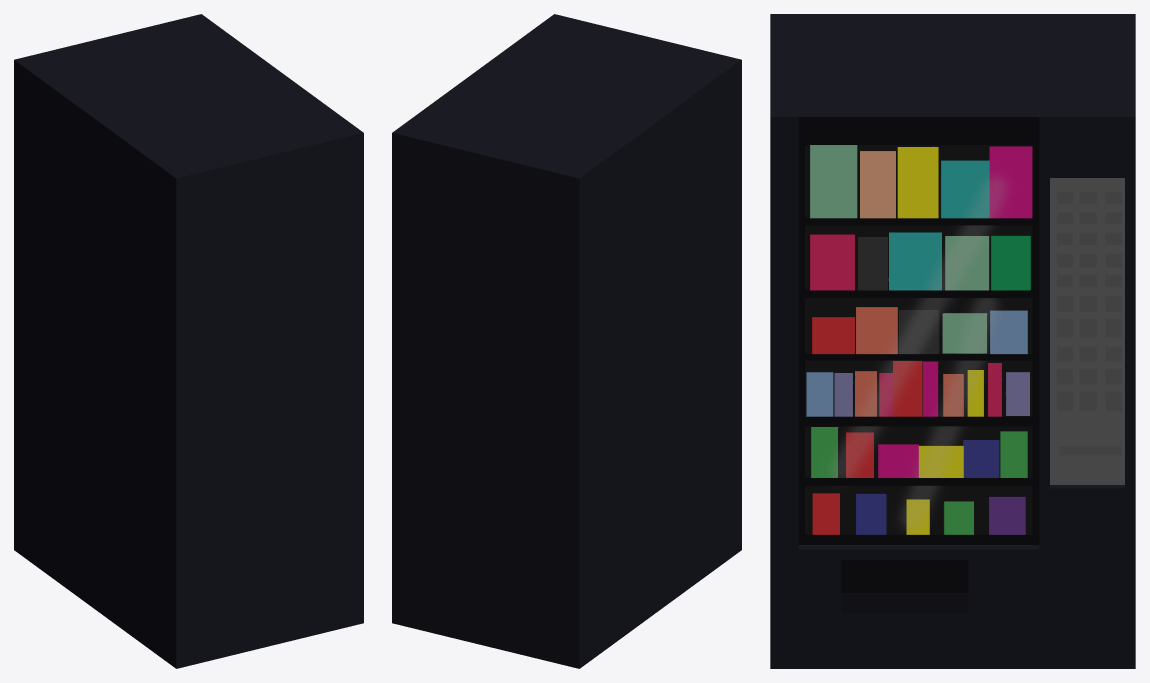
Rendered from VendingMachine2.fbx.
The picture shows the model from 3 angles, left to right: view 1: azimuth 30°, elevation 25°; view 2: azimuth 150°, elevation 25°; view 3: azimuth 270°, elevation 25°; orthographic projection. The views are drawn at different scales.
Parts seen in each view (by area): view 1: pCube1; view 2: pCube1; view 3: pCube1.
Part boxes in pixels (<box>): pCube1: <box>14,14,363,668</box>; pCube1: <box>392,14,741,668</box>; pCube1: <box>770,14,1135,668</box>.
Bounding box in the file's own units: 2 × 5 × 3.
1 material, 1 textured.
